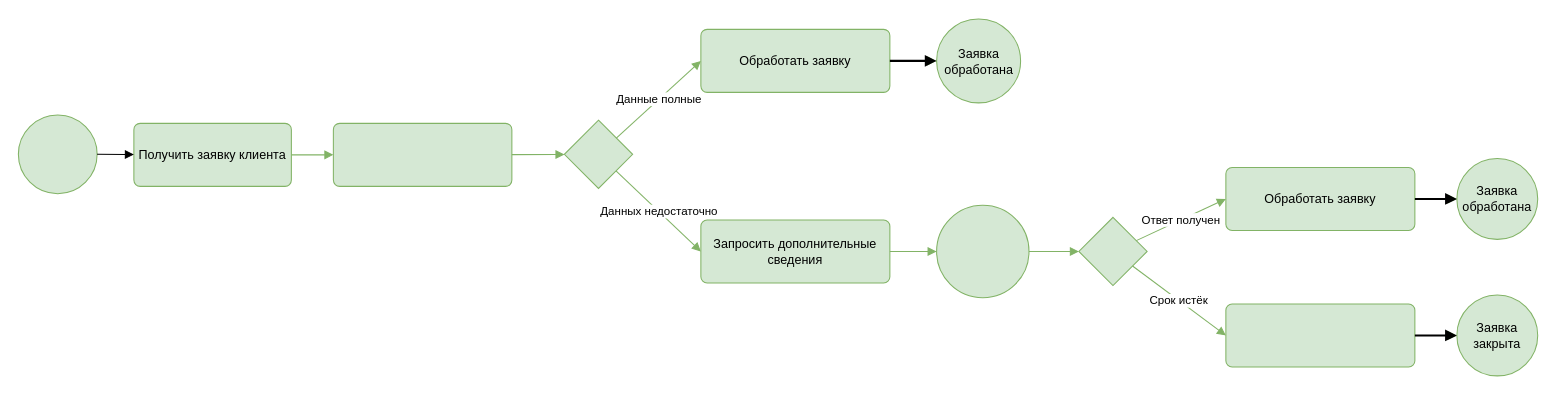
This 1556x394 diagram has some shape labels left out. Here are the shapes that lost their labels. From the top down, the centre of each, then its label:
At [57,154]: "Начало".
At [422,154]: "Проверить полноту данных".
At [982,251]: "Ожидание ответа 3 рабочих дня".
At [1320,335]: "Уведомить о закрытии заявки".
